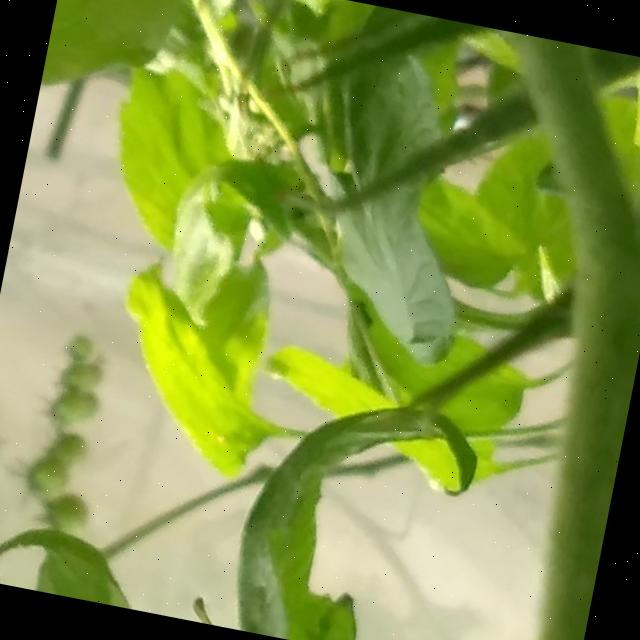tomato: (0, 0, 640, 499)
